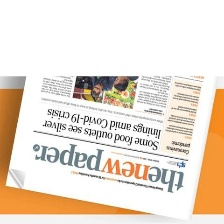news_paper: (4, 73, 219, 222)
